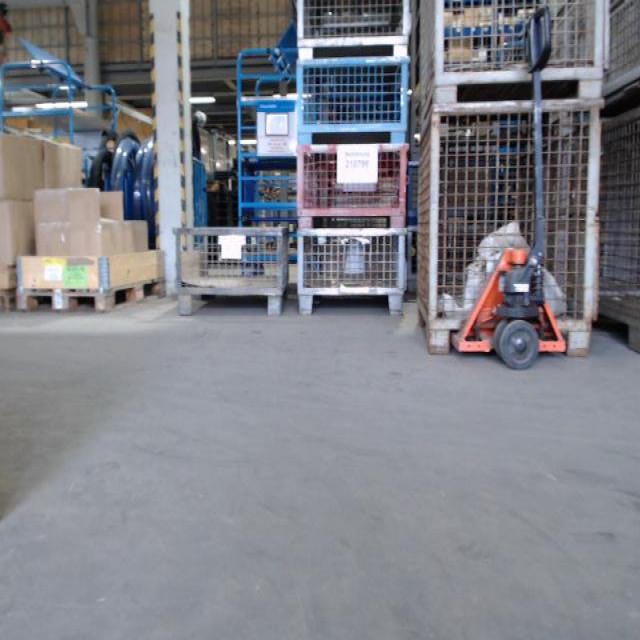pallet: (12, 274, 166, 316)
pallet_truck: (445, 6, 586, 374)
stillage: (418, 95, 595, 354), (415, 1, 609, 103), (589, 101, 639, 363), (292, 54, 413, 147), (175, 221, 287, 319), (294, 140, 409, 228), (297, 229, 408, 315), (296, 2, 415, 59), (598, 1, 640, 107)
